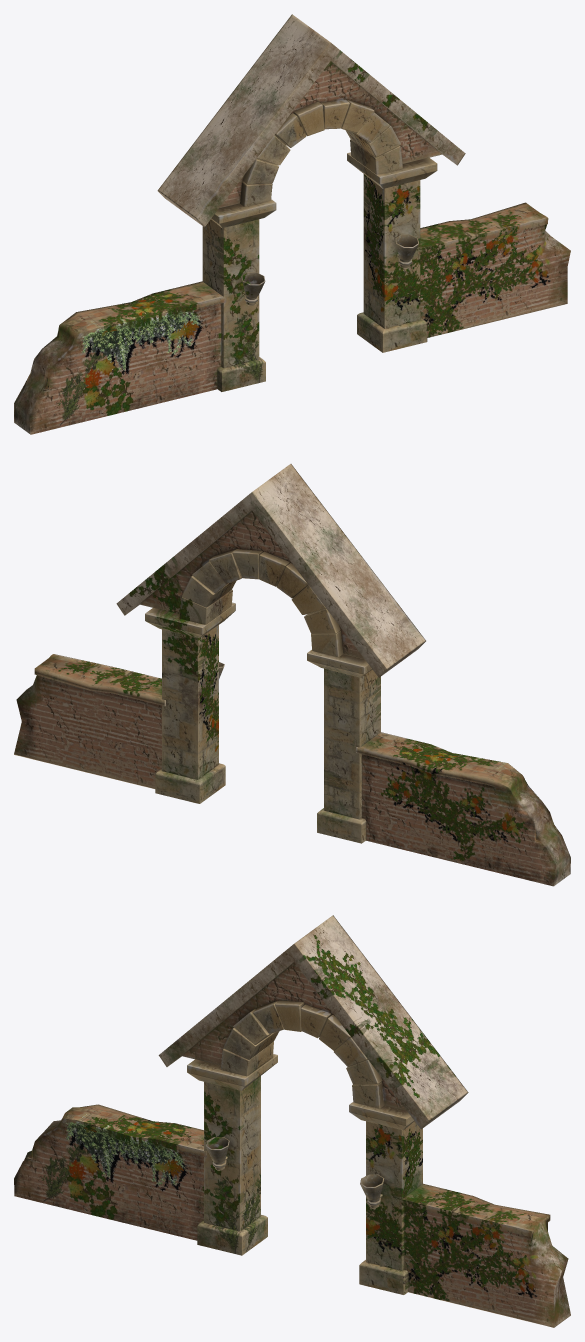
3 views of the same model, one above another, from view 1: azimuth 30°, elevation 25°; view 2: azimuth 150°, elevation 25°; view 3: azimuth 330°, elevation 25° (orthographic).
Visible parts, largest first — view 1: defaultMaterial.003; view 2: defaultMaterial.003; view 3: defaultMaterial.003.
Boxes of the visible parts, box(x1,y1,x2,y2) form: defaultMaterial.003: box(14, 14, 570, 434); defaultMaterial.003: box(14, 464, 570, 886); defaultMaterial.003: box(14, 915, 570, 1327).
Size of the model in its own units: 28.49 by 16.55 by 4.03.
1 material, 1 textured.
